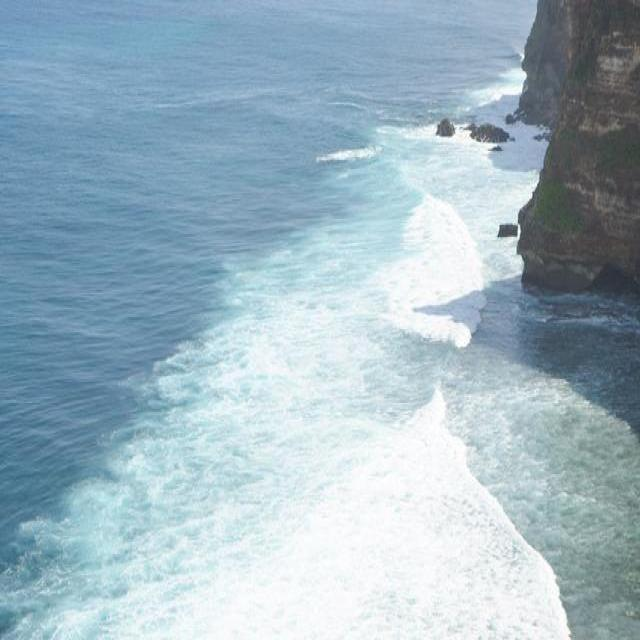reef: (427, 85, 538, 173)
